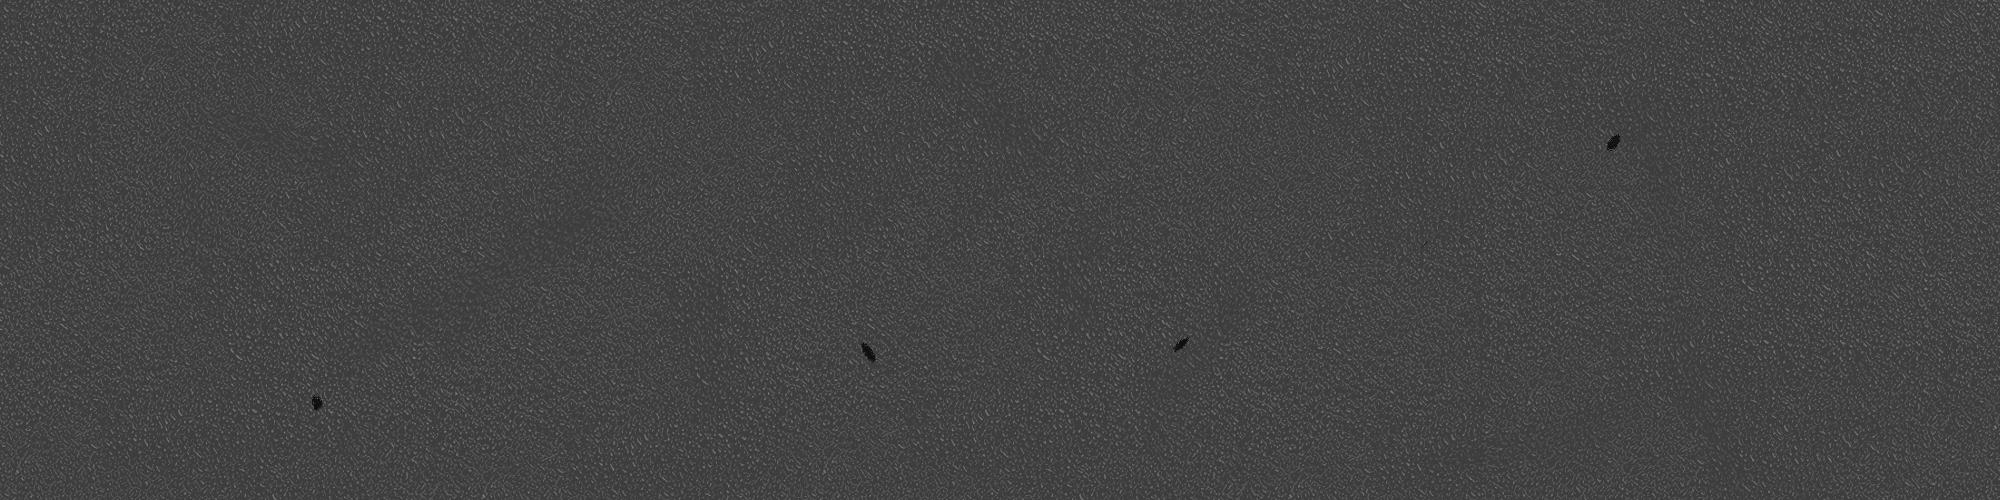Decomposed: (860, 339, 878, 369), (304, 394, 323, 421), (1602, 133, 1629, 151), (1173, 332, 1195, 353)
